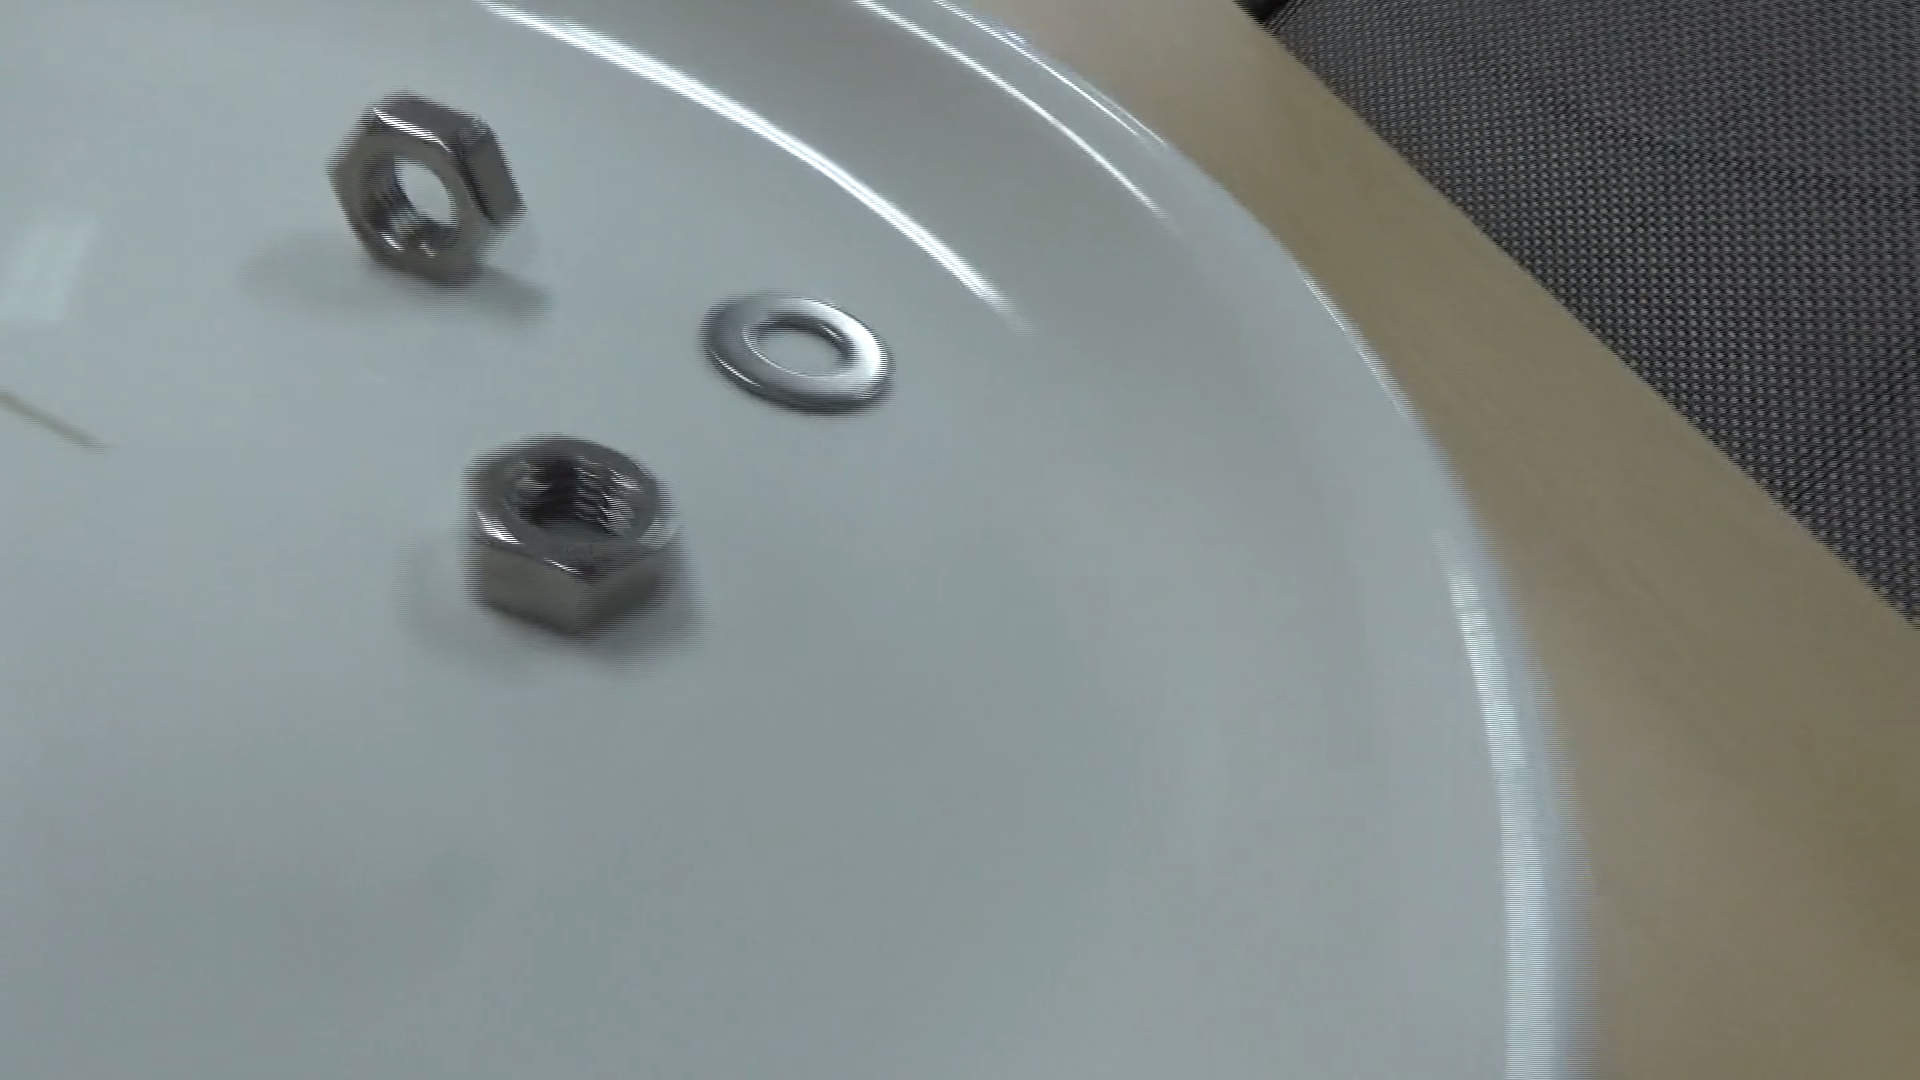nut: (458, 430, 679, 645), (324, 94, 526, 289)
washer: (694, 285, 897, 421)
